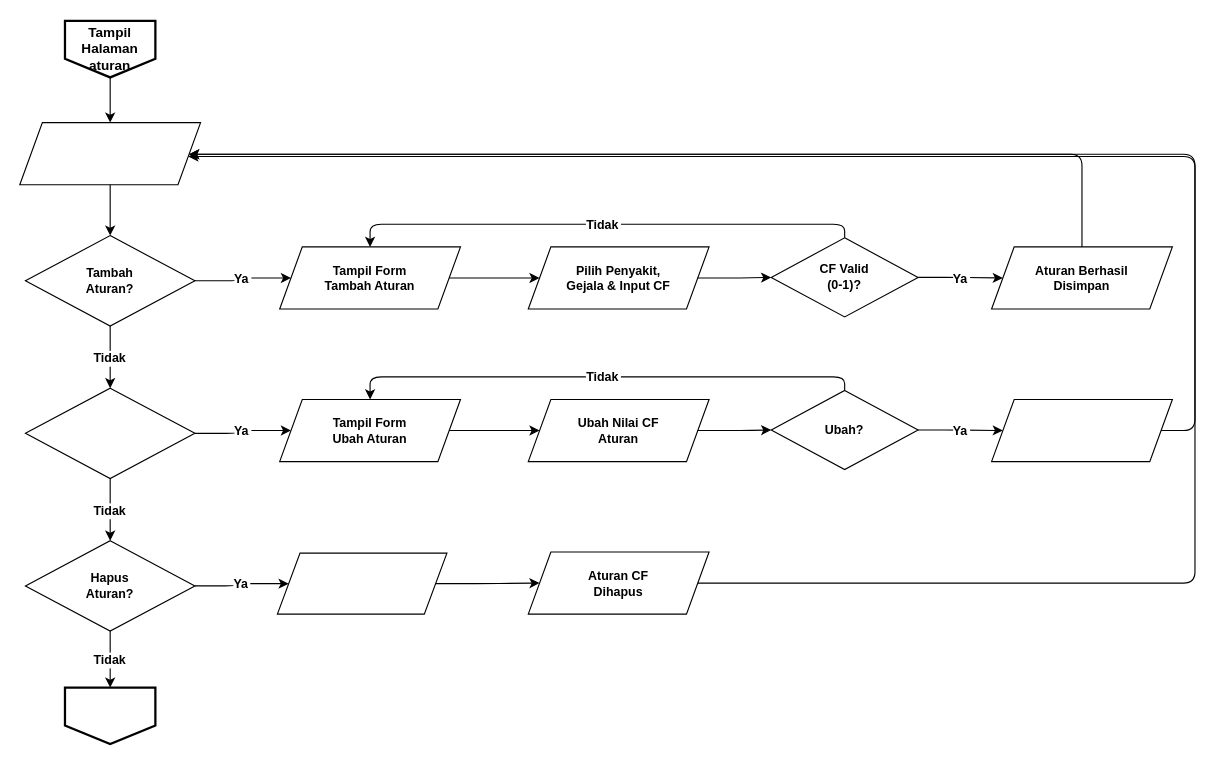
This 1224x764 diagram has some shape labels left out. The box of each missing label's shape, as (x1, y1, x2, y2) in pixels:
Aturan Berhasil Diubah: (990, 398, 1172, 462)
Dashboad: (63, 686, 156, 745)
Data Aturan CF: (19, 121, 201, 185)
Tampil Pesan Konfirmasi Hapus: (276, 552, 447, 614)
Ubah Aturan?: (24, 387, 195, 479)
